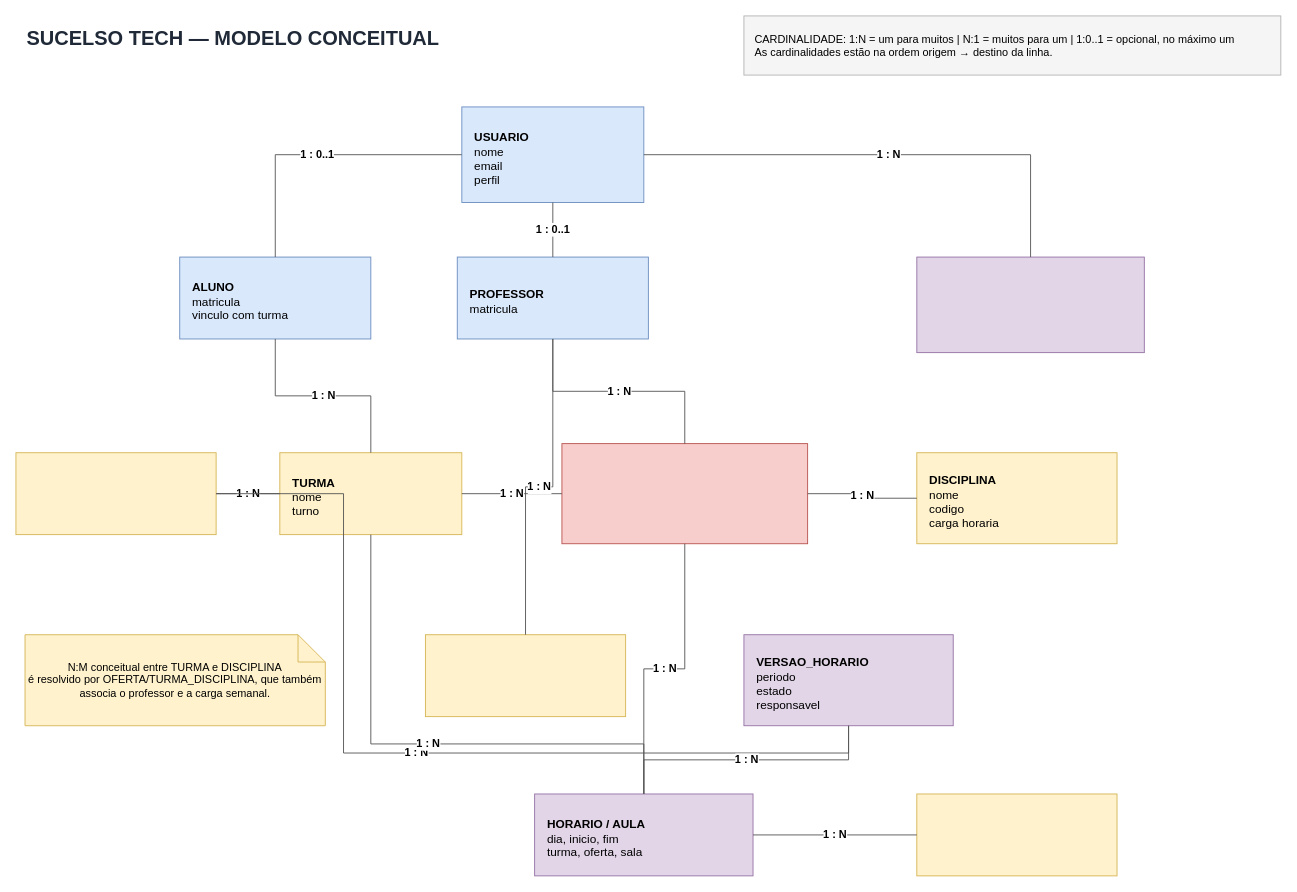
The diagram is 1297 pixels wide and 892 high, and some of its shapes have lost their labels. The box of each missing label's shape, as (x1, y1, x2, y2) in pixels:
DISPONIBILIDADE dia inicio e fim: (425, 634, 626, 717)
HISTORICO_ALTERACOES operacao data valores alterados: (916, 256, 1144, 353)
OFERTA / TURMA_DISCIPLINA carga semanal turma + disciplina + professor: (561, 443, 808, 544)
PERIODO_LETIVO identificacao datas/calendario: (15, 452, 216, 535)
SALA identificacao capacidade: (916, 793, 1117, 876)
